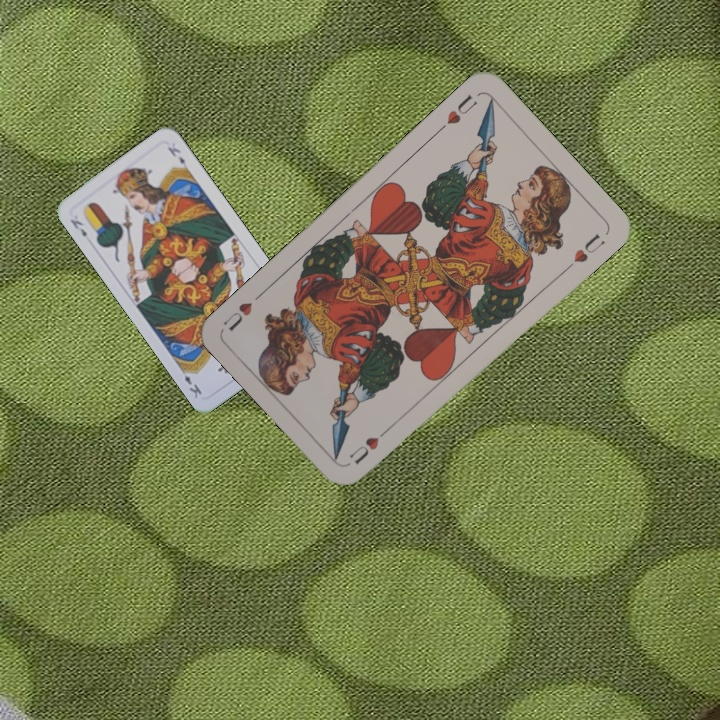EK: (66, 215, 89, 240)
HU: (345, 422, 393, 467), (434, 90, 481, 135)
